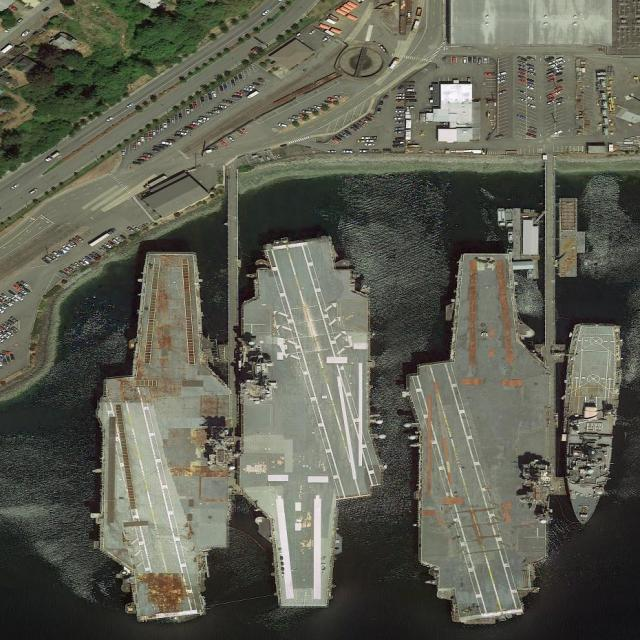Aircraft Carrier: (237, 235, 382, 607), (407, 253, 552, 623), (96, 253, 233, 621)
Dock: (539, 158, 566, 358), (221, 167, 241, 383)
Landing: (554, 320, 626, 528)
